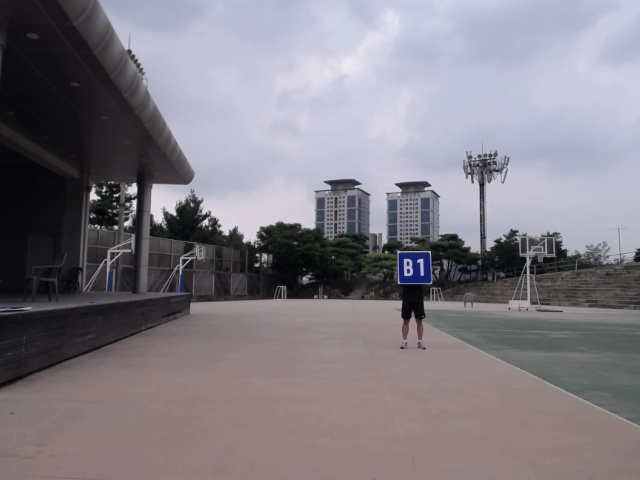delivery_b1: (397, 251, 432, 284)
